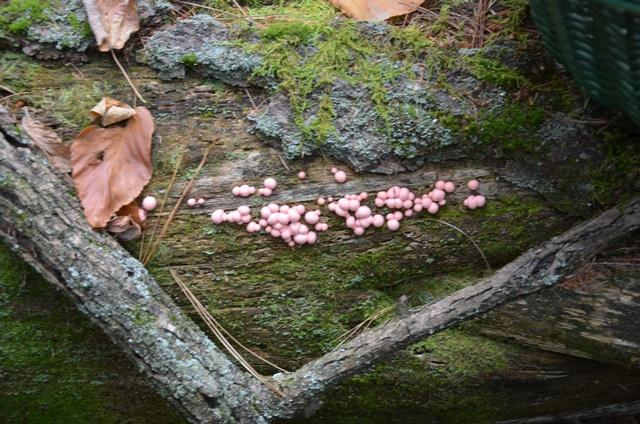poisonous_mushroom: (208, 170, 487, 247), (141, 194, 157, 211), (210, 208, 224, 224)
